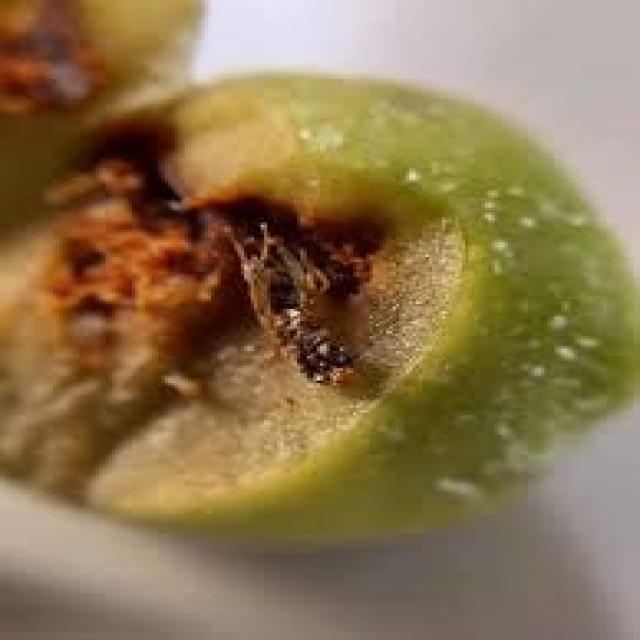Anthracnose: (4, 76, 634, 534)
